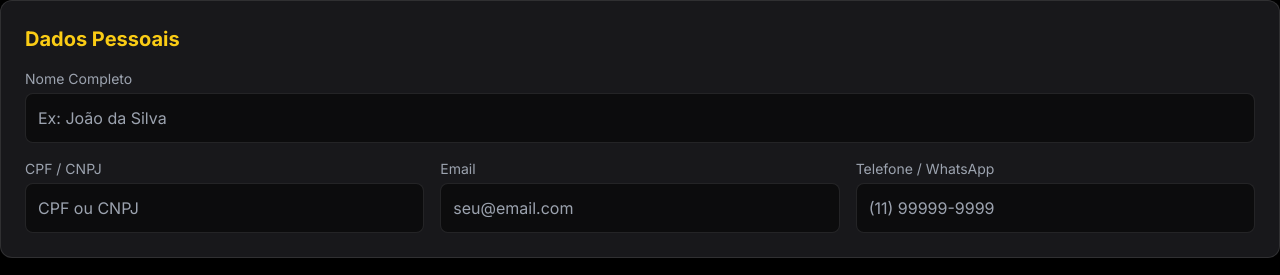
Test: CustomerForm Component › deve aplicar a máscara de Telefone ao digitar
Note: Simula digitação de celular
Type "11999998888" into the field with placeholder "(11) 99999-9999" at (1055, 208), box [856,183,1255,233]
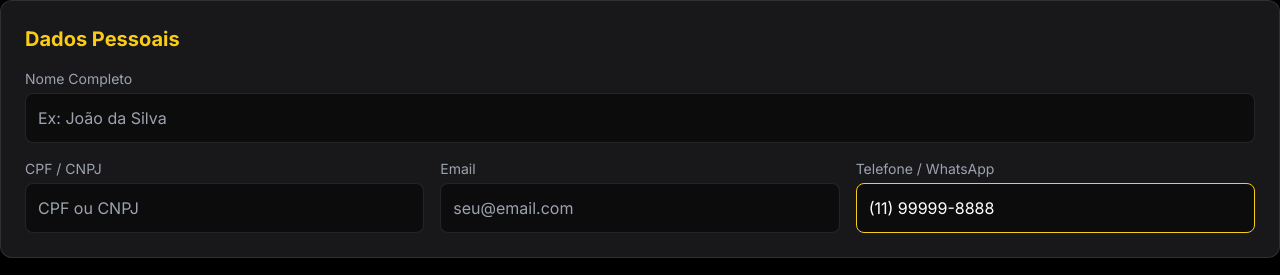
Expected: the field with placeholder "(11) 99999-9999" holds "(11) 99999-8888"
Note: Limpa e testa fixo (simulando comportamento do usuário)
Replace the text in the field with placeholder "(11) 99999-9999" with "1122223333" at (1055, 208), box [856,183,1255,233]
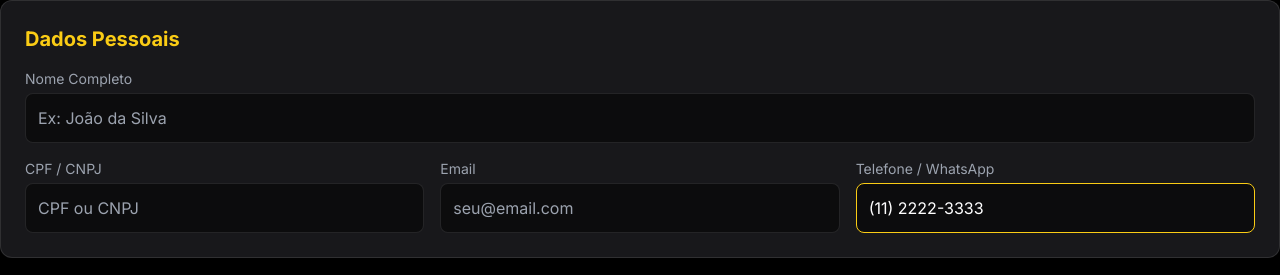
Expected: the field with placeholder "(11) 99999-9999" holds "(11) 2222-3333", [856,183,1255,233]
